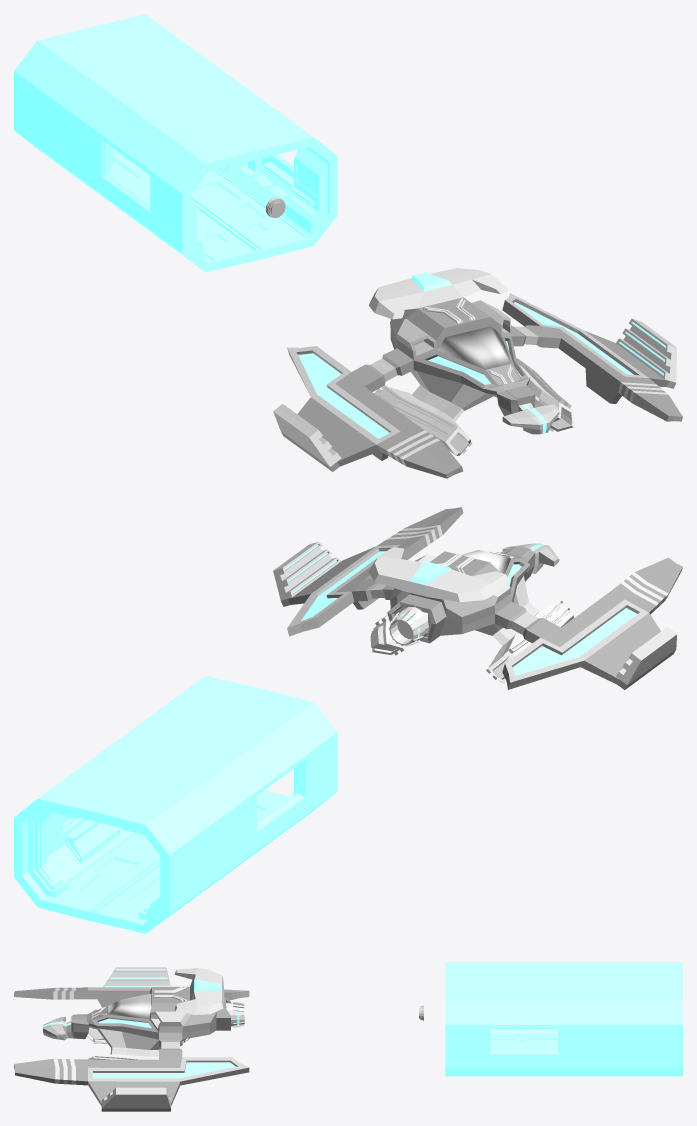
Rendered from SpaceshipTake2.fbx.
3 views of the same model, one above another, from view 1: azimuth 30°, elevation 25°; view 2: azimuth 150°, elevation 25°; view 3: azimuth 270°, elevation 25° (orthographic). The views are drawn at different scales.
Parts seen in each view (by area): view 1: Cube.005, Cube.035, Cube, Cube.042, Cube.040, Cube.029, Cube.023, Cube.019, Cube.021, Cube.027, Cube.032, Cube.025 (+1 smaller); view 2: Cube.005, Cube.035, Cube, Cube.023, Cube.042, Cube.040, Cube.019, Cube.029, Small thruster 2.005, Cube.028, Cube.027; view 3: Cube.005, Cube.035, Cube, Cube.040, Cube.042, Cube.023, Cube.027, Cube.019, Cube.021, Cube.032, Cube.028, Cube.029 (+4 smaller).
Part boxes in pixels (x1,y1,x2,y2): Cube.005: (14,14,337,272); Cube.035: (281,300,682,478); Cube: (383,297,535,415); Cube.042: (287,293,648,444); Cube.040: (273,318,676,466); Cube.029: (376,358,574,455); Cube.023: (368,268,508,319); Cube.019: (298,302,633,438); Cube.021: (437,326,510,369); Cube.027: (411,370,538,421); Cube.032: (396,300,511,359); Cube.025: (502,403,559,434); Cube.005: (14,675,337,933); Cube.035: (281,507,682,689); Cube: (383,546,535,643); Cube.023: (369,547,508,602); Cube.042: (287,544,648,682); Cube.040: (273,541,676,685); Cube.019: (301,551,636,675); Cube.029: (372,599,573,683); Small thruster 2.005: (389,607,428,645); Cube.028: (387,525,668,611); Cube.027: (475,575,538,645); Cube.005: (445,962,682,1076); Cube.035: (14,987,249,1111); Cube: (71,987,230,1039); Cube.040: (101,967,170,1108); Cube.042: (88,987,248,1081); Cube.023: (174,968,224,1014); Cube.027: (97,1028,185,1056); Cube.019: (93,1062,235,1078); Cube.021: (108,993,151,1018); Cube.032: (149,985,191,1032); Cube.028: (53,987,75,1084); Cube.029: (87,1027,189,1059).
Size of the model in its own units: 1417 by 428 by 3157.
